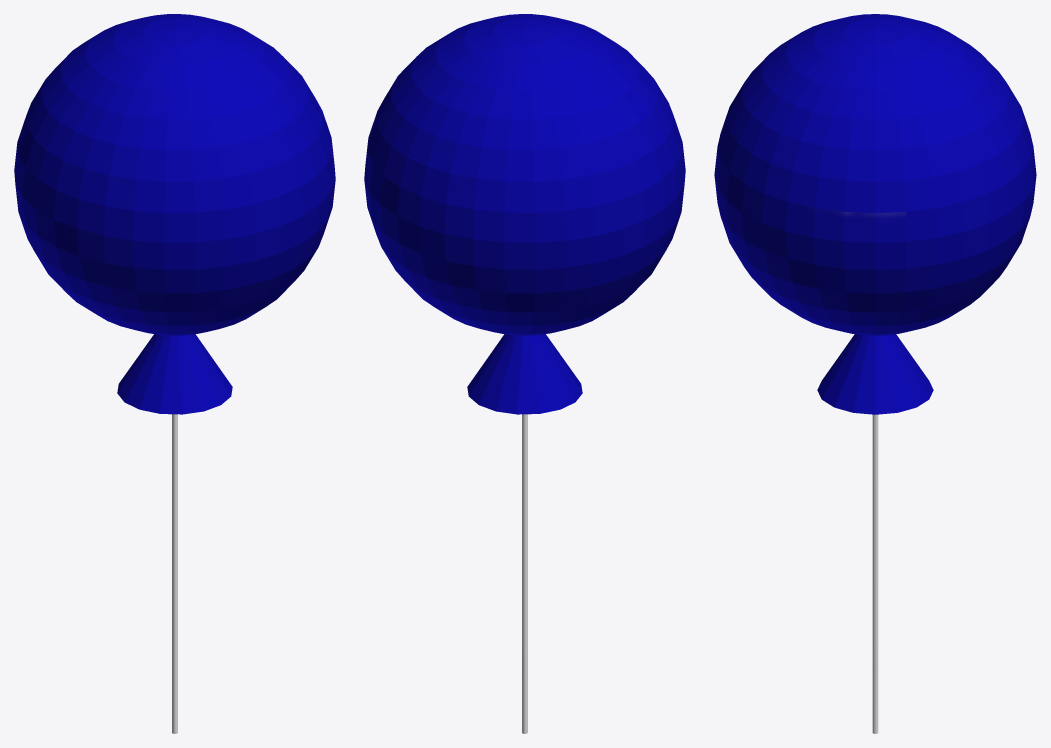
File: Globo.obj
The picture shows the model from 3 angles, left to right: view 1: azimuth 30°, elevation 25°; view 2: azimuth 150°, elevation 25°; view 3: azimuth 270°, elevation 25°; orthographic projection.
Visible parts, largest first — view 1: Cylinder; view 2: Cylinder; view 3: Cylinder.
Part boxes in pixels (bbox=[...]): Cylinder: bbox=[14, 14, 335, 733]; Cylinder: bbox=[364, 14, 685, 733]; Cylinder: bbox=[714, 14, 1036, 733].
Bounding box in the file's own units: 2 × 4.82 × 2.
Materials: 2 (2 with a texture image).
